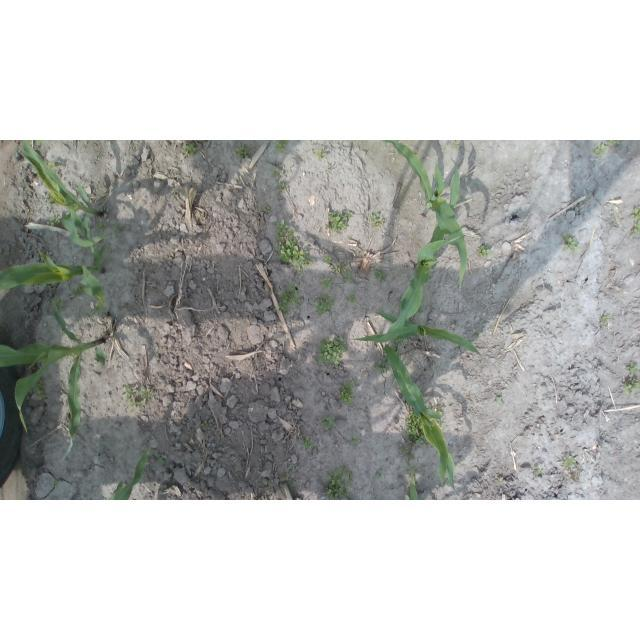Maize: (367, 159, 462, 340), (0, 303, 106, 460), (382, 140, 467, 289), (384, 343, 459, 497), (18, 140, 103, 254), (0, 245, 106, 316), (352, 309, 482, 359), (109, 449, 150, 500), (404, 467, 418, 500)
Weeds: (272, 219, 313, 271), (325, 465, 353, 500), (320, 335, 349, 365), (404, 410, 424, 444), (279, 283, 300, 314), (326, 210, 354, 233), (337, 379, 357, 405), (315, 294, 335, 316), (27, 378, 48, 398), (563, 234, 582, 254), (373, 356, 391, 373), (630, 206, 640, 235), (624, 376, 640, 394), (373, 268, 390, 284), (368, 213, 384, 228), (122, 385, 138, 400), (331, 262, 349, 275), (561, 455, 576, 470), (183, 142, 198, 157), (477, 243, 491, 257), (299, 435, 313, 449), (319, 416, 335, 428), (274, 140, 289, 152), (48, 213, 61, 226), (593, 144, 607, 156), (140, 389, 152, 403), (279, 477, 297, 486), (72, 285, 86, 296), (315, 148, 326, 161), (319, 277, 333, 287), (155, 451, 165, 465), (54, 299, 66, 310), (236, 147, 248, 158), (627, 364, 640, 374), (607, 141, 625, 148), (96, 220, 105, 233), (602, 313, 611, 325), (348, 291, 357, 303), (408, 455, 416, 468), (344, 272, 353, 283), (349, 436, 360, 445), (323, 256, 333, 265), (394, 348, 402, 359), (435, 405, 443, 416), (271, 167, 279, 177), (277, 183, 285, 193), (130, 399, 141, 406), (536, 467, 545, 475), (400, 446, 409, 454), (201, 420, 209, 429), (45, 196, 53, 204), (48, 162, 57, 169), (376, 469, 382, 479), (496, 476, 503, 484), (496, 397, 504, 404), (263, 204, 270, 212), (451, 141, 459, 148), (288, 465, 297, 471), (102, 244, 108, 253), (112, 227, 121, 233), (436, 418, 444, 424), (52, 479, 60, 485), (395, 340, 404, 345), (261, 488, 268, 493), (476, 332, 482, 337)
